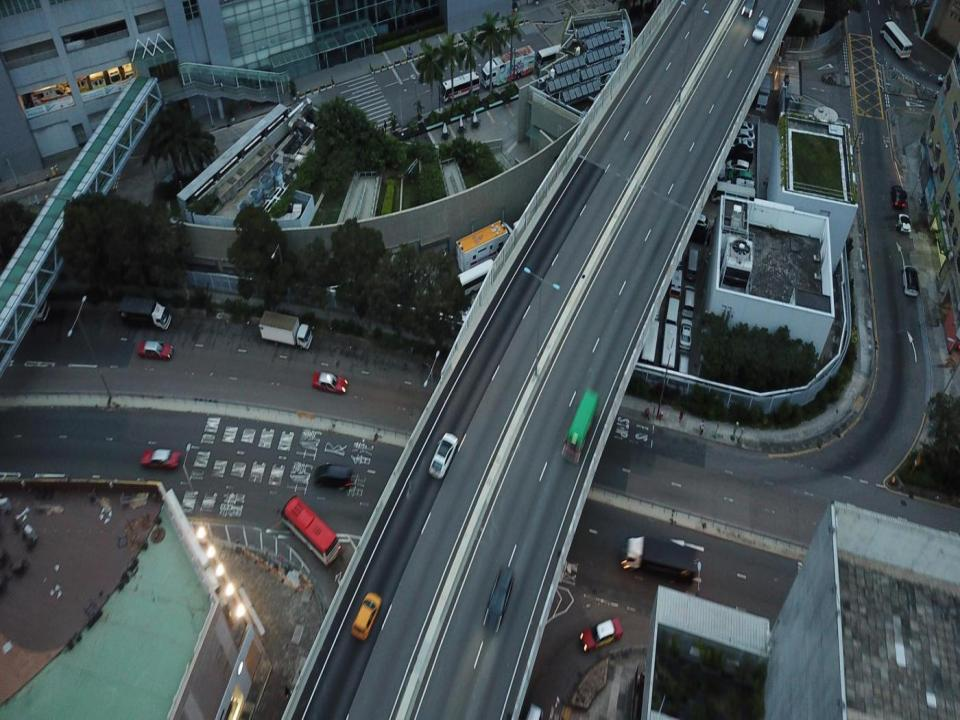bus: (280, 495, 343, 565), (880, 16, 914, 63), (438, 70, 478, 103), (714, 182, 758, 210)
car: (580, 617, 624, 653), (314, 462, 353, 492), (136, 338, 174, 363), (140, 448, 183, 469), (313, 371, 348, 396), (901, 265, 920, 299), (682, 209, 711, 231), (726, 134, 757, 154), (725, 142, 753, 162), (752, 15, 770, 44), (732, 116, 756, 137), (730, 125, 755, 145), (890, 185, 909, 209), (683, 284, 696, 319), (680, 318, 693, 350), (897, 212, 913, 237), (726, 157, 750, 172), (740, 1, 758, 20)
truck: (622, 534, 697, 584), (563, 385, 599, 462), (480, 46, 536, 88), (258, 309, 313, 351), (118, 296, 173, 332), (450, 256, 497, 292), (639, 314, 659, 364), (662, 322, 678, 372), (669, 264, 684, 299), (666, 294, 679, 328), (686, 248, 698, 276)
van: (482, 566, 516, 636), (350, 591, 382, 642), (428, 432, 457, 481)
